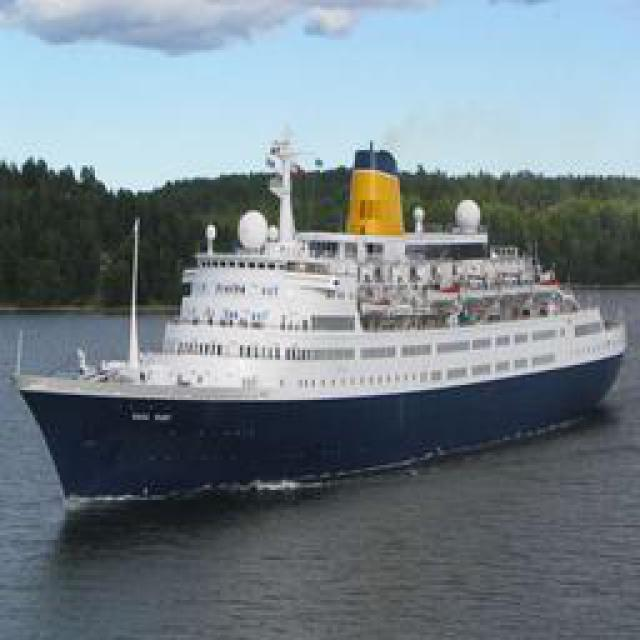Ship: (17, 140, 620, 500)
